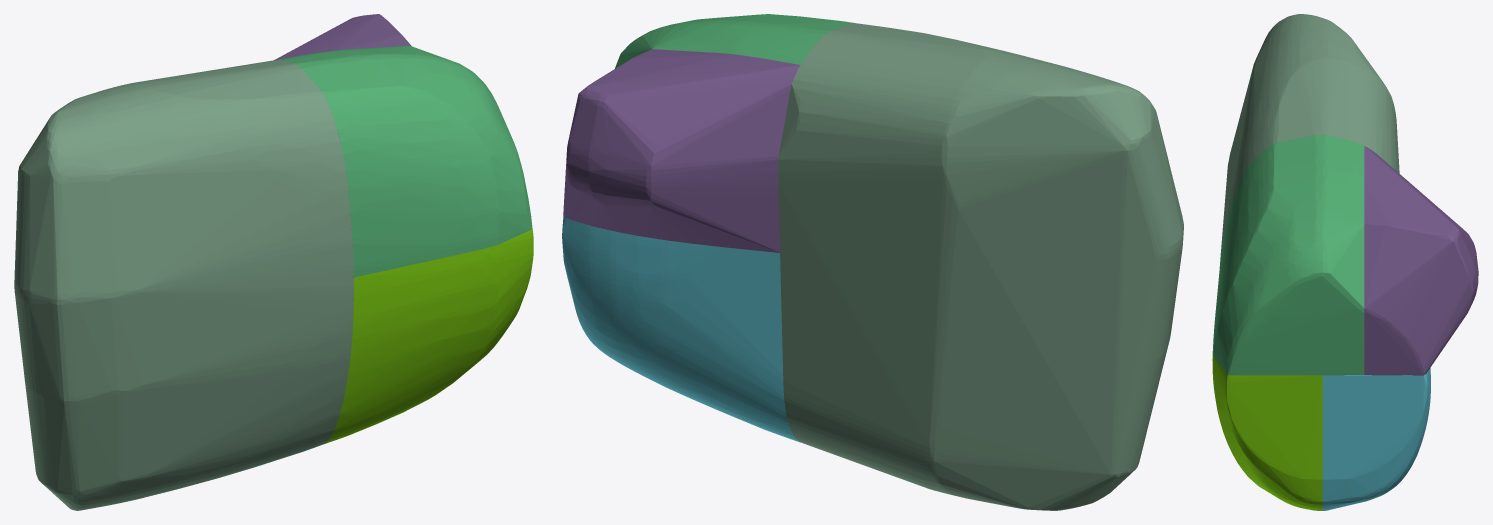
Rendered from L_hand_base.obj.
3 renders of one model, left to right at view 1: azimuth 30°, elevation 25°; view 2: azimuth 150°, elevation 25°; view 3: azimuth 270°, elevation 25°, orthographic. The views are drawn at different scales.
Visible parts, largest first — view 1: geometry_0, geometry_3, geometry_4, geometry_1; view 2: geometry_0, geometry_1, geometry_2, geometry_3; view 3: geometry_3, geometry_1, geometry_0, geometry_2, geometry_4.
Part boxes in pixels (box(x1,y1,x2,y2)): geometry_0: box(14, 60, 353, 510); geometry_3: box(277, 45, 532, 277); geometry_4: box(325, 229, 533, 443); geometry_1: box(274, 14, 411, 60); geometry_0: box(778, 23, 1183, 510); geometry_1: box(563, 49, 800, 252); geometry_2: box(562, 216, 800, 442); geometry_3: box(615, 14, 853, 68); geometry_3: box(1213, 134, 1364, 375); geometry_1: box(1364, 146, 1478, 375); geometry_0: box(1219, 14, 1399, 266); geometry_2: box(1322, 368, 1430, 510); geometry_4: box(1212, 351, 1322, 510).
Size of the model in its own units: 0.106 by 0.083 by 0.0547.
